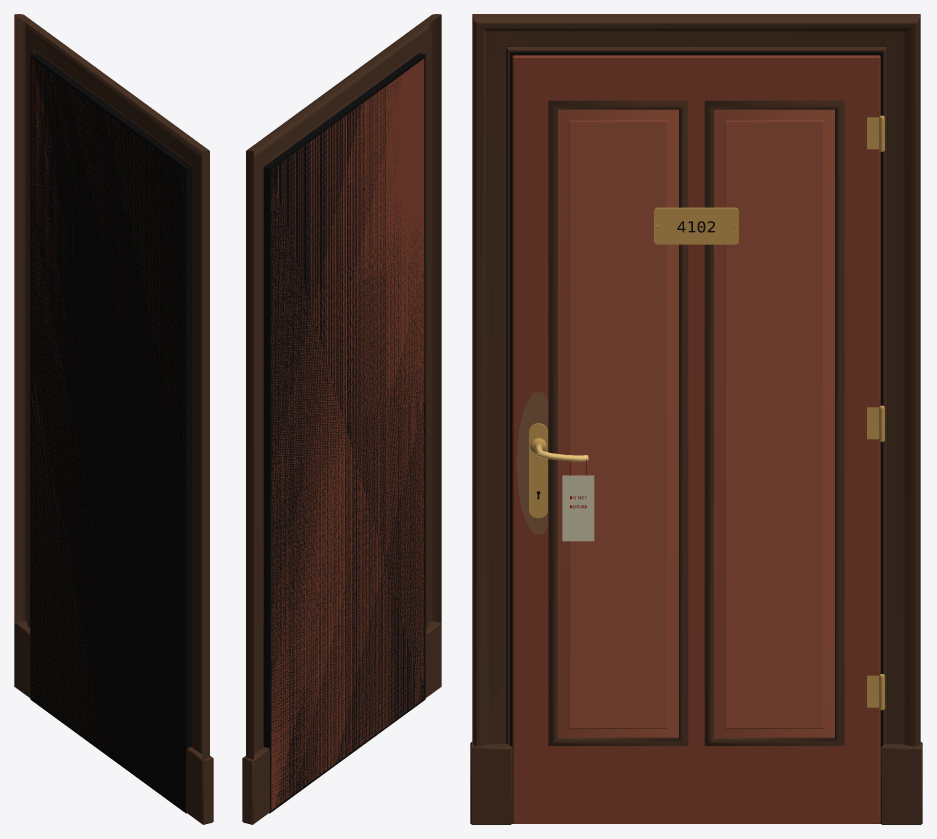
File: hotel_door_e@2.glb
3 views of the same model, side by side, from view 1: azimuth 30°, elevation 25°; view 2: azimuth 150°, elevation 25°; view 3: azimuth 270°, elevation 25° (orthographic). The views are drawn at different scales.
Visible parts, largest first — view 1: fuge, bekleidung, blatt; view 2: fuge, blatt, bekleidung; view 3: fuellungen, blatt, bekleidung, kehlleisten, fuge, beschlag, nummernschild, karte, abrieb.
Part boxes in pixels (bbox=[...]): fuge: bbox=[30, 53, 192, 813]; bekleidung: bbox=[14, 14, 213, 824]; blatt: bbox=[31, 59, 184, 776]; fuge: bbox=[263, 53, 425, 813]; blatt: bbox=[271, 58, 424, 810]; bekleidung: bbox=[242, 14, 441, 824]; fuellungen: bbox=[558, 109, 834, 737]; blatt: bbox=[512, 55, 880, 823]; bekleidung: bbox=[470, 14, 922, 824]; kehlleisten: bbox=[548, 100, 844, 745]; fuge: bbox=[510, 51, 882, 823]; beschlag: bbox=[529, 115, 884, 710]; nummernschild: bbox=[654, 207, 738, 244]; karte: bbox=[562, 475, 594, 541]; abrieb: bbox=[516, 392, 548, 533].
Bounding box in the file's own units: 0.1169 × 2.22 × 1.13.
